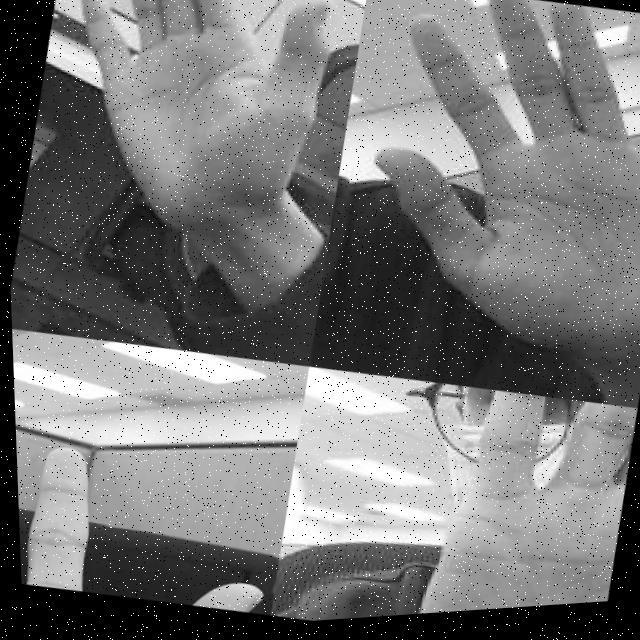no-gloves: (336, 0, 640, 382), (38, 0, 354, 260), (372, 376, 640, 622), (12, 413, 284, 630)
